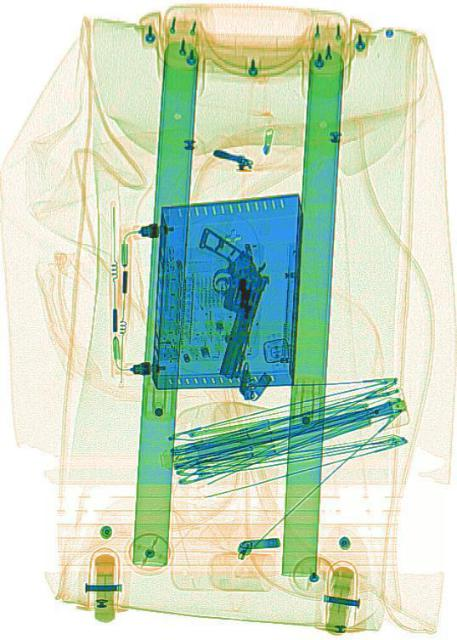Gun: (172, 223, 273, 383)
